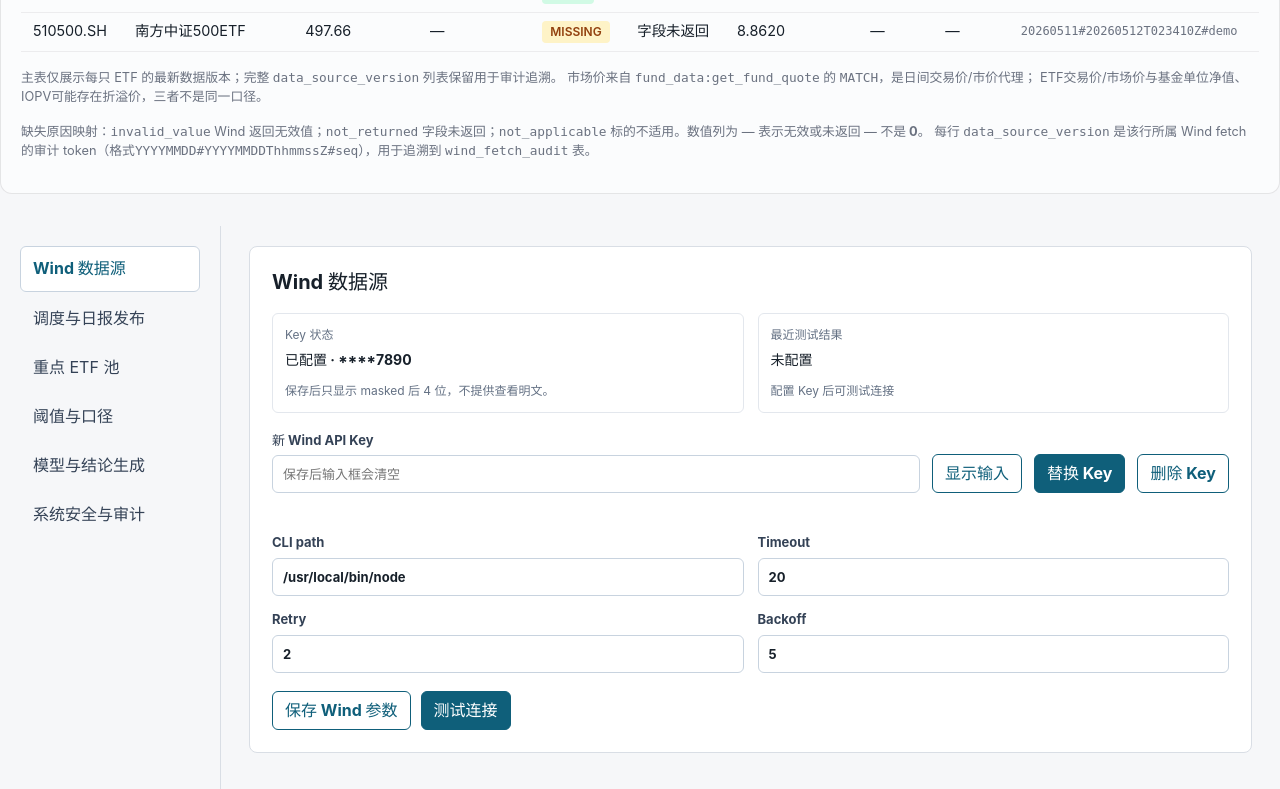
Test: config page › shows operational Wind test failures without blaming the saved key
(page scrolled)
Check: the text "已配置 · ****7890" is shown, box [285,351,412,368]
What coordinates should you click on to do the following:
click the button "测试连接"
I would click on:
 (466, 711)
Its box is [421,691,511,730].
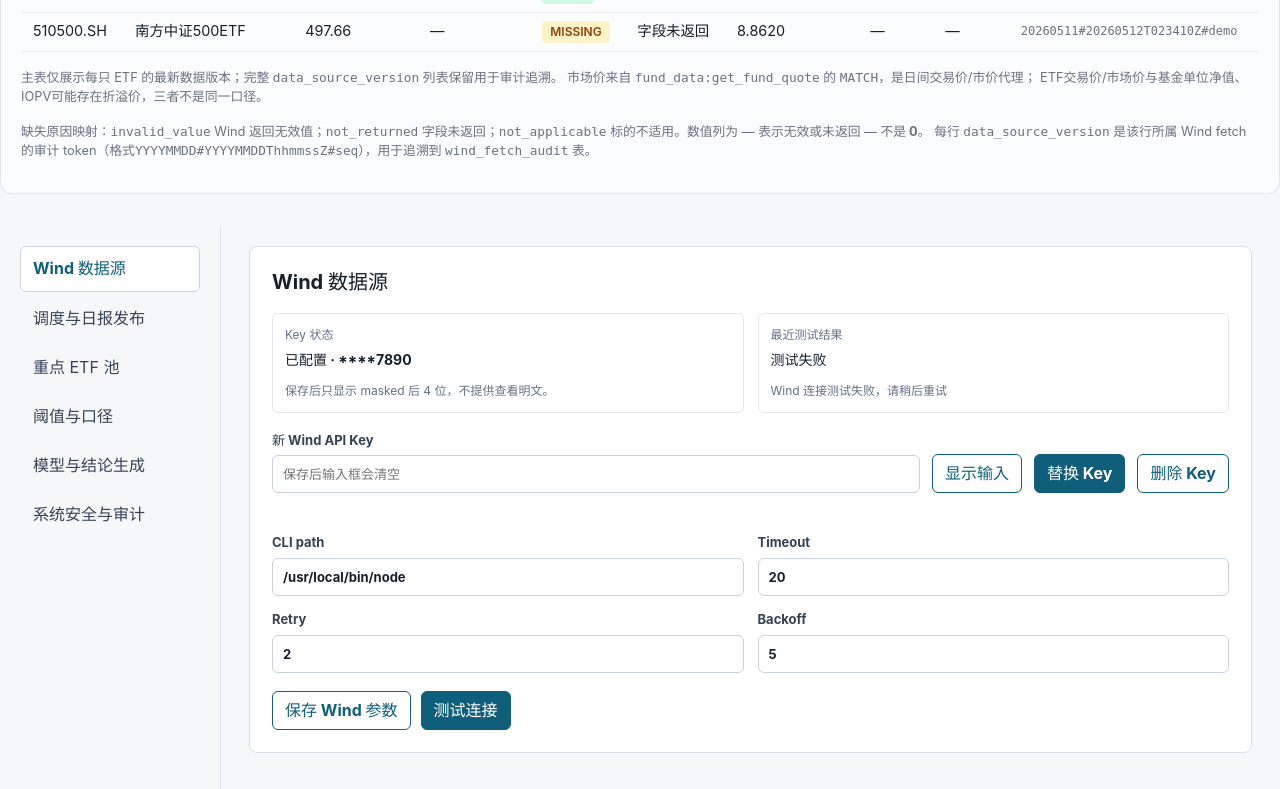
Check: the text "Wind 连接测试失败，请稍后重试" is shown, box [770,383,947,398]
